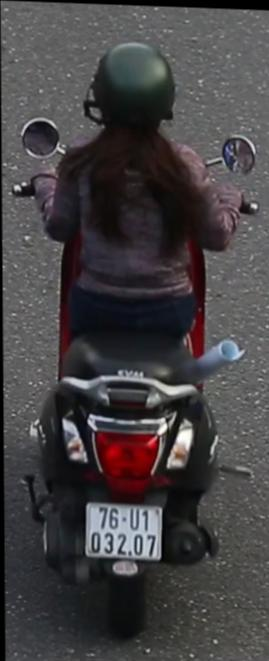LP: (76, 489, 168, 582)
helmet: (87, 31, 180, 134)
